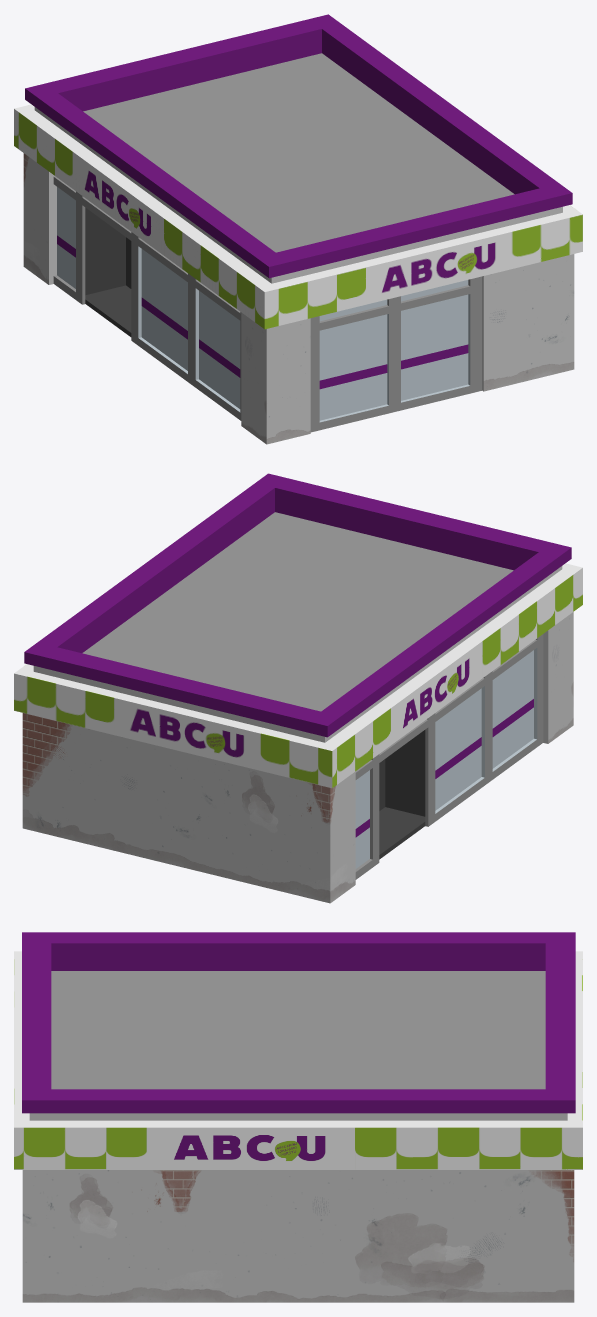
The model's file is fbx_CVS.fbx.
3 views of the same model, one above another, from view 1: azimuth 30°, elevation 25°; view 2: azimuth 150°, elevation 25°; view 3: azimuth 270°, elevation 25° (orthographic). The views are drawn at different scales.
Parts seen in each view (by area): view 1: fbx_CVS; view 2: fbx_CVS; view 3: fbx_CVS.
Part boxes in pixels (box(x1,y1,x2,y2)): fbx_CVS: box(14, 14, 582, 444); fbx_CVS: box(14, 473, 582, 903); fbx_CVS: box(14, 932, 582, 1302).
Size of the model in its own units: 6.07 by 3.23 by 8.28.
Materials: 1 (1 with a texture image).
